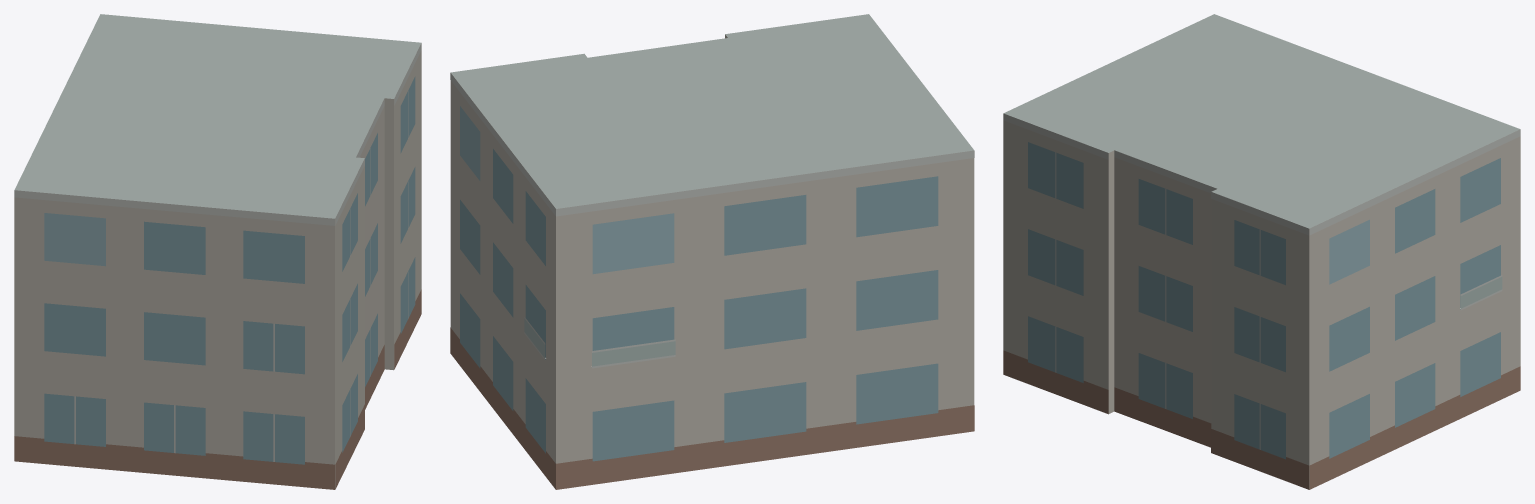
The model's file is survey-upis-32982060.glb.
3 views of the same model, side by side, from view 1: azimuth 30°, elevation 25°; view 2: azimuth 150°, elevation 25°; view 3: azimuth 270°, elevation 25° (orthographic). The views are drawn at different scales.
Visible parts, largest first — view 1: survey-upis-32982060.tmp; view 2: survey-upis-32982060.tmp; view 3: survey-upis-32982060.tmp.
Part boxes in pixels (x1,y1,x2,y2): survey-upis-32982060.tmp: (14, 14, 421, 489); survey-upis-32982060.tmp: (450, 14, 974, 489); survey-upis-32982060.tmp: (1003, 14, 1520, 489).
Bounding box in the file's own units: 16.13 × 9.15 × 16.43.
